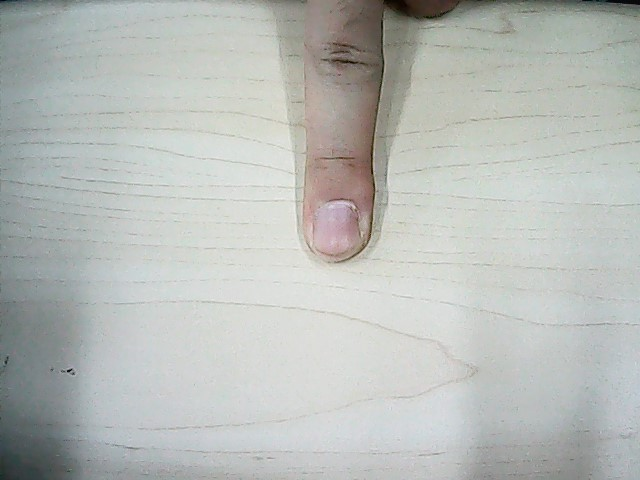nail: (312, 195, 362, 262)
